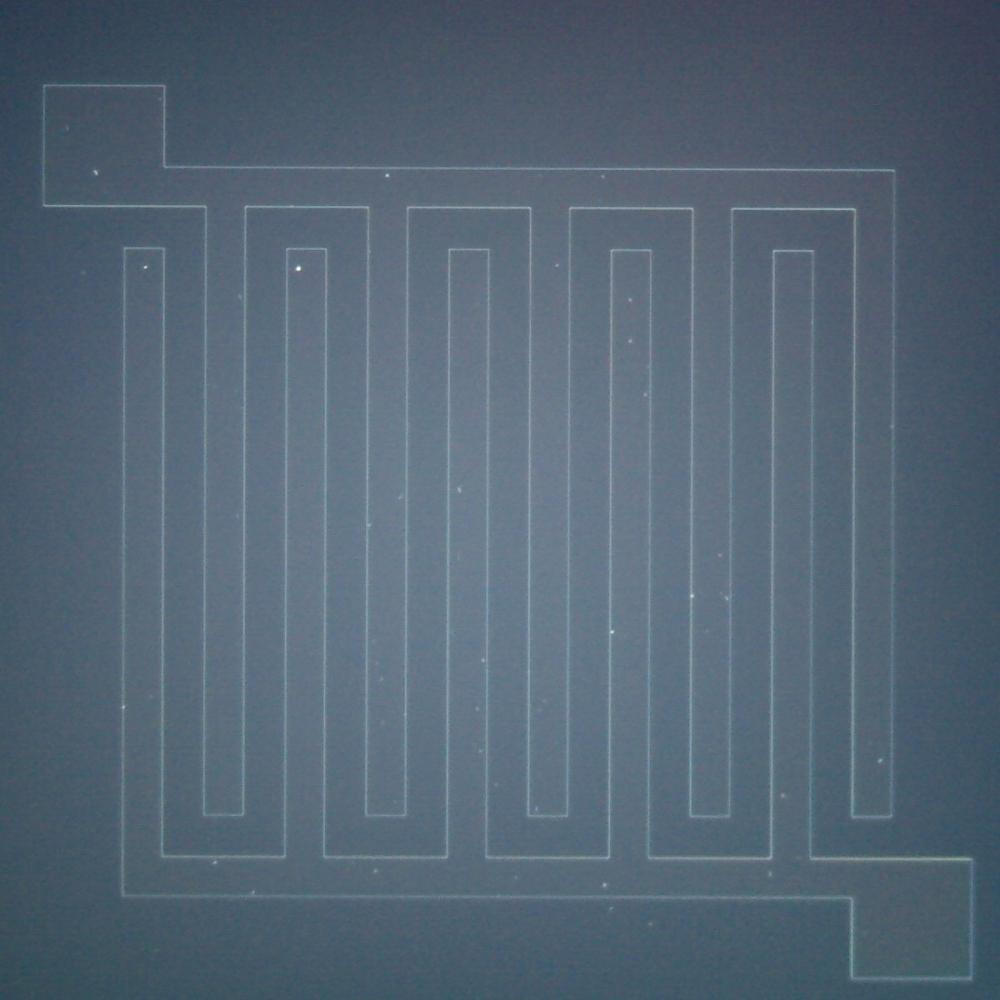dot: (288, 258, 312, 285), (680, 584, 704, 606)
